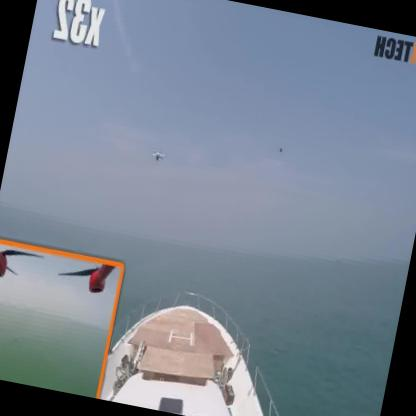drone: (148, 142, 170, 166)
